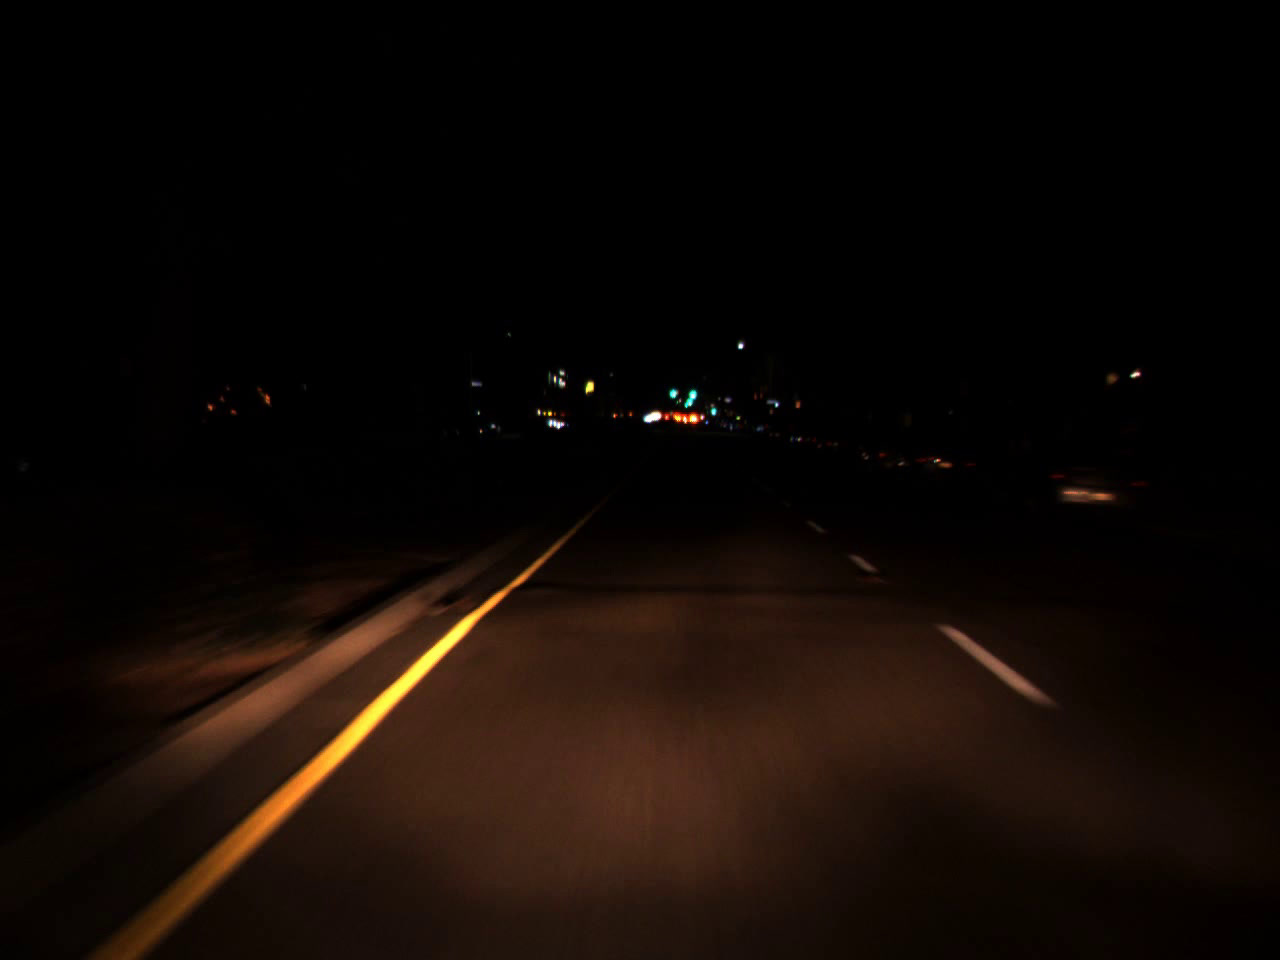go: (681, 383, 695, 413), (667, 378, 677, 402), (685, 381, 697, 399), (710, 400, 717, 418)
